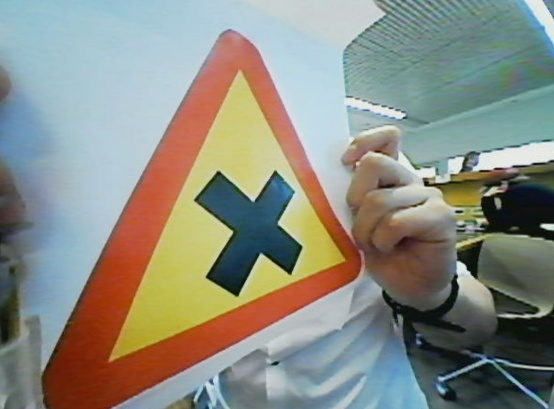junction: (40, 20, 375, 409)
